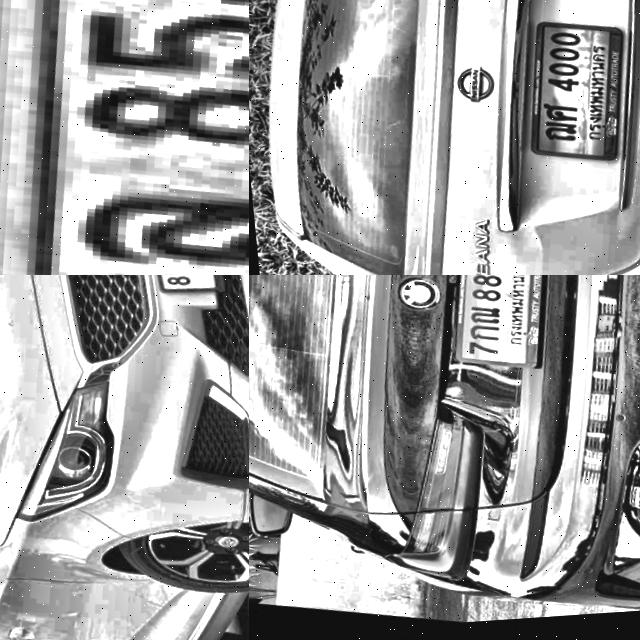license-plate: (0, 0, 249, 275), (511, 18, 632, 170), (433, 275, 553, 378), (124, 275, 227, 309)
